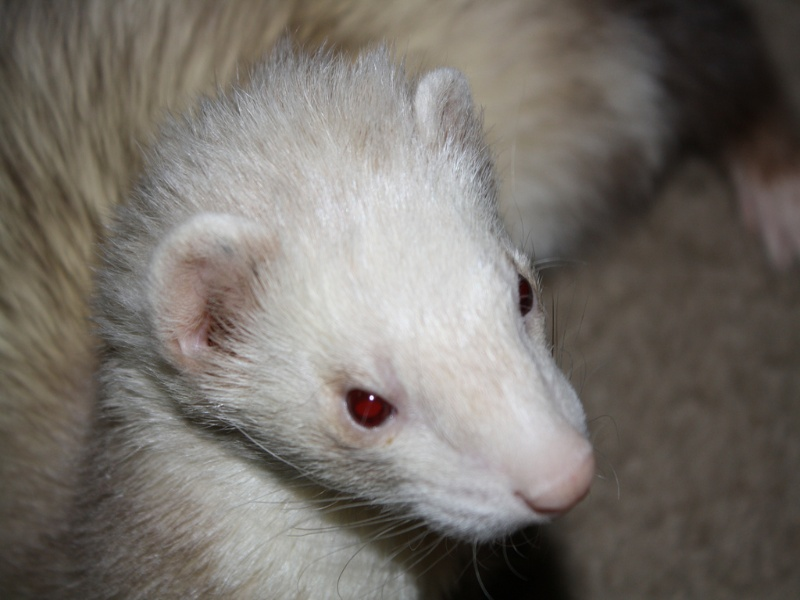minkish: (35, 33, 601, 600)
